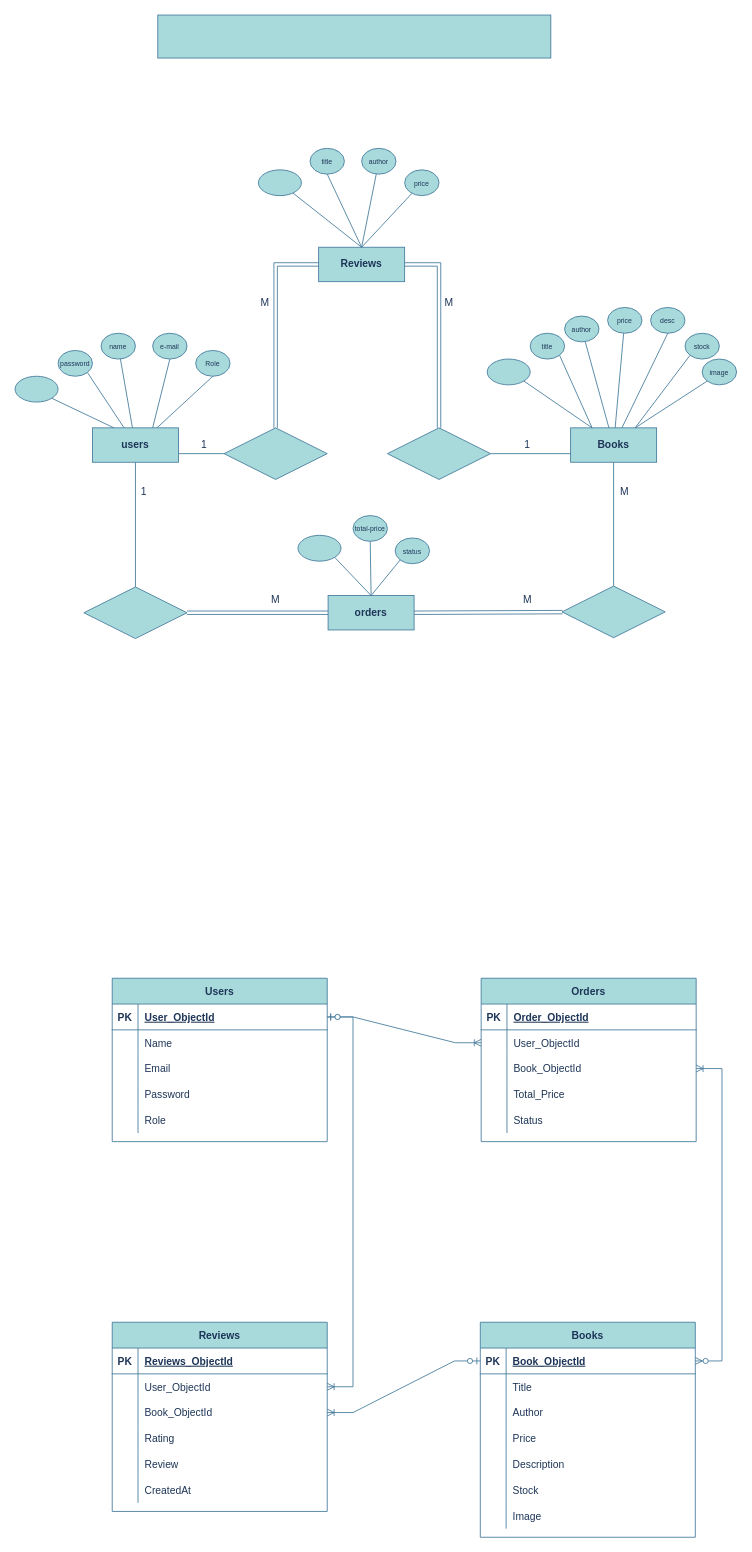
The diagram is 752 pixels wide and 1552 high, and some of its shapes have lost their labels. Each missing label, with the box of its shape:
B- ObjectId: (486, 358, 530, 385)
contain: (561, 585, 665, 638)
have: (387, 427, 491, 479)
O- ObjectId: (297, 534, 341, 561)
Online Bookstore (E-commerce Platform): (157, 14, 551, 58)
Place: (83, 586, 187, 639)
R- ObjectId: (258, 169, 301, 196)
U- ObjectId: (14, 375, 58, 402)
write: (223, 427, 327, 479)
